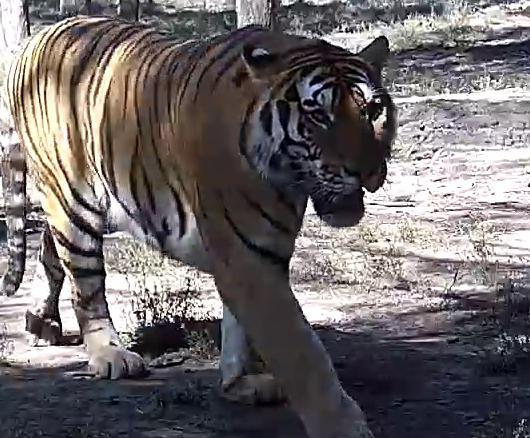tiger: (6, 16, 397, 437)
